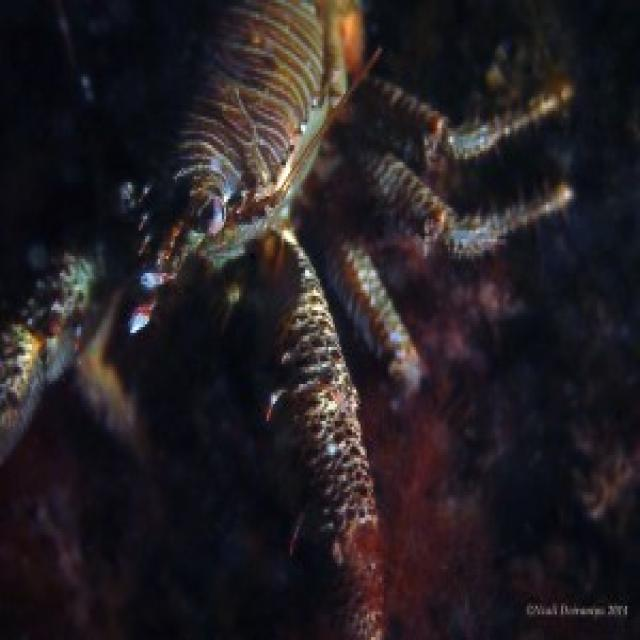lobsters: (0, 0, 634, 606)
